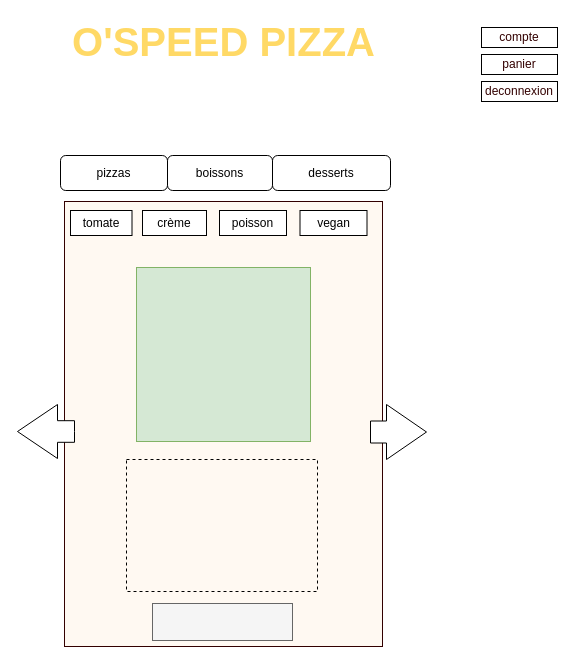
The diagram is 575 pixels wide and 664 high, and some of its shapes have lost their labels. The centre of each missing label's shape, as x and y in pixels:
description: point 222,525
photo: point 223,354
valider: point 222,621
